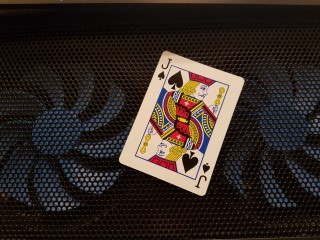JackOfSpades: (119, 50, 245, 196)
